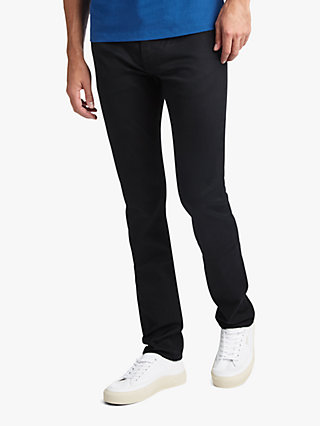jeans: (72, 31, 288, 341)
